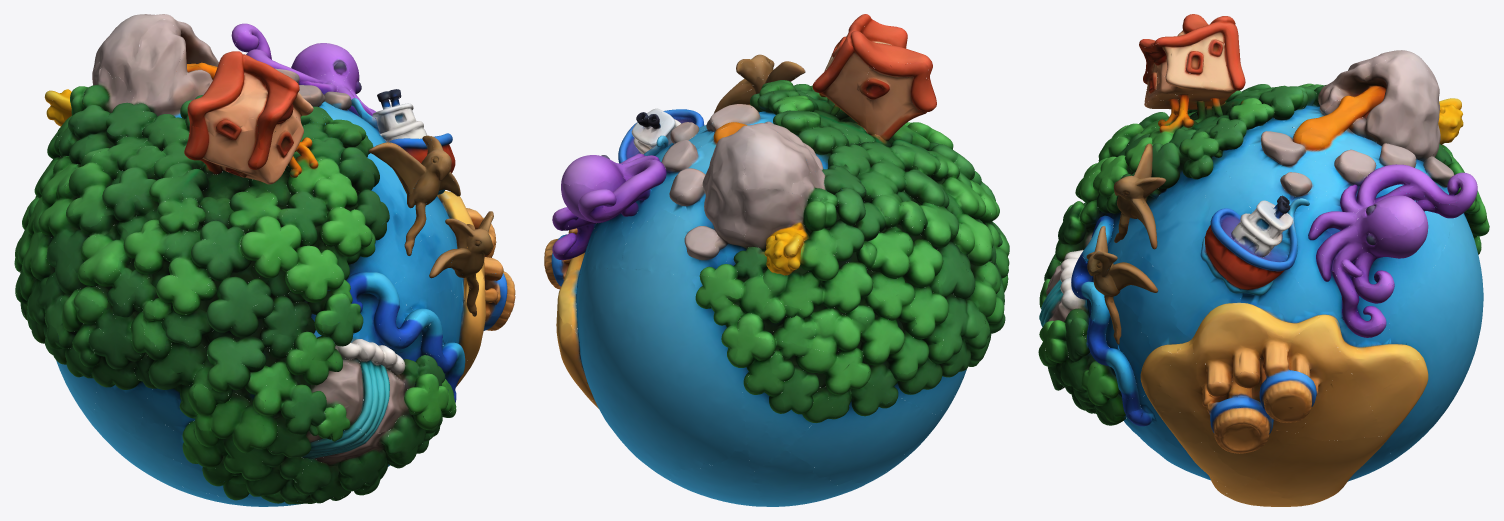
The model's file is planeta.glb.
3 views of the same model, side by side, from view 1: azimuth 30°, elevation 25°; view 2: azimuth 150°, elevation 25°; view 3: azimuth 270°, elevation 25° (orthographic). The views are drawn at different scales.
Parts seen in each view (by area): view 1: SM_Planeta; view 2: SM_Planeta; view 3: SM_Planeta.
Part boxes in pixels (box(x1,y1,x2,y2)): SM_Planeta: box(14, 14, 515, 506); SM_Planeta: box(544, 14, 1009, 506); SM_Planeta: box(1038, 14, 1489, 506).
Bounding box in the file's own units: 2.28 × 2.27 × 2.15.
1 material, 1 textured.
